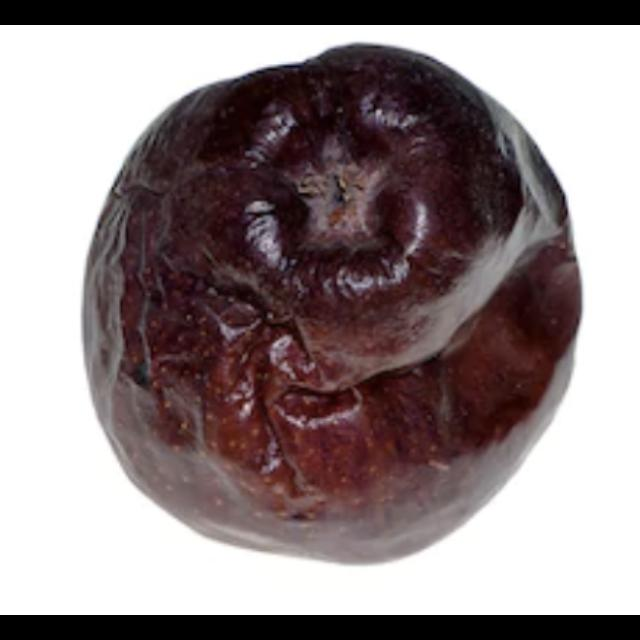Apel Tidak Segar: (68, 36, 592, 576)
